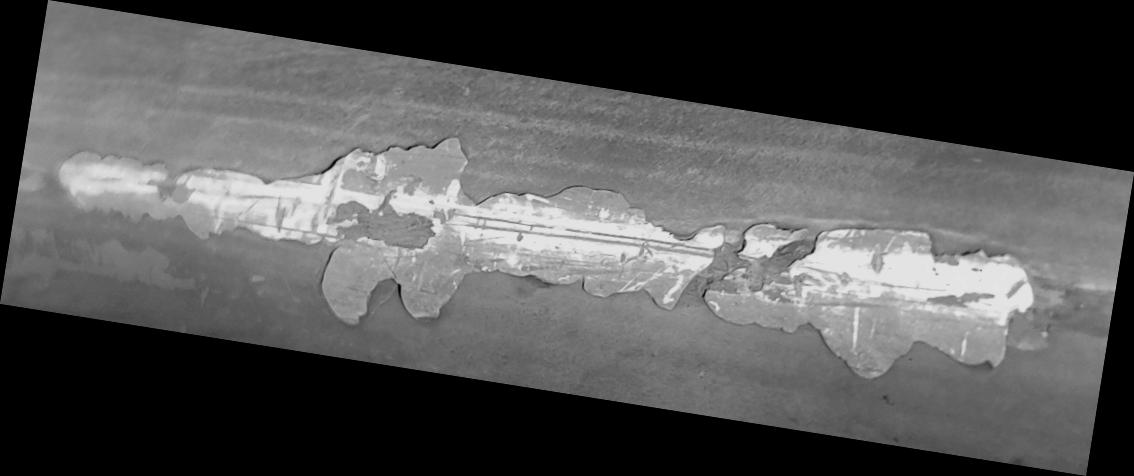paint-off: (0, 1, 1133, 476)
